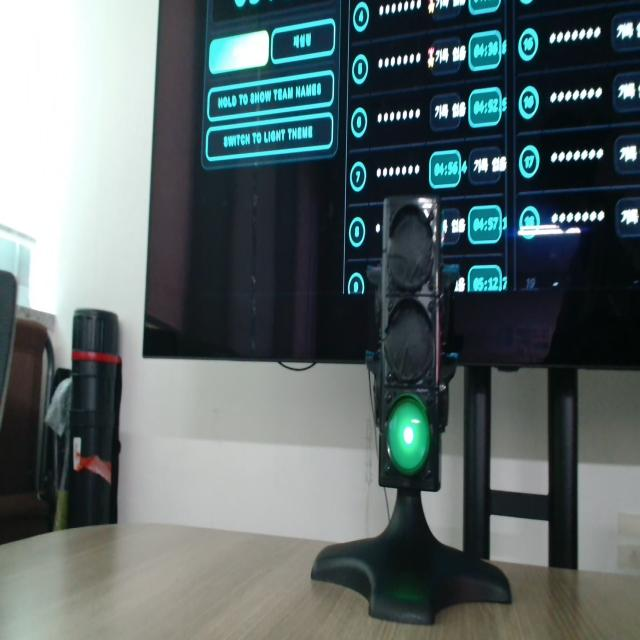green_light: (388, 395, 430, 475)
